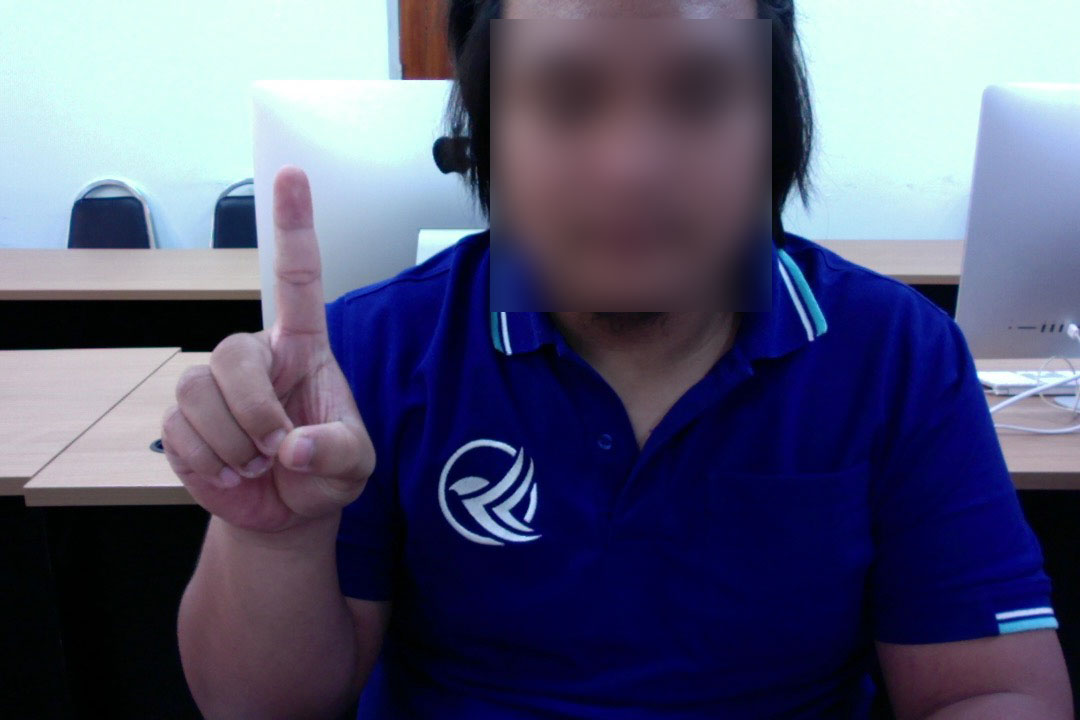dor: (159, 161, 378, 553)
